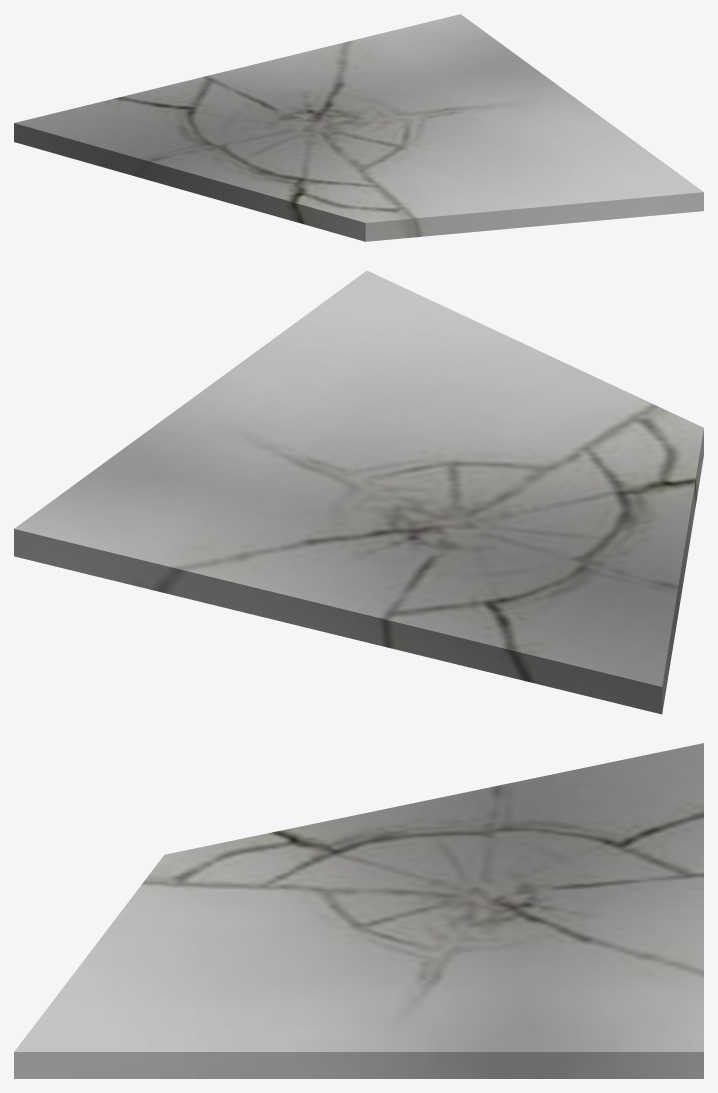
File: Building1_ShatterPanel8.fbx
3 renders of one model, top to bottom at view 1: azimuth 30°, elevation 25°; view 2: azimuth 150°, elevation 25°; view 3: azimuth 270°, elevation 25°, orthographic. The views are drawn at different scales.
Parts seen in each view (by area): view 1: Building1_ShatterPanel8; view 2: Building1_ShatterPanel8; view 3: Building1_ShatterPanel8.
Part boxes in pixels (<box>): Building1_ShatterPanel8: <box>14,14,703,241</box>; Building1_ShatterPanel8: <box>14,270,703,714</box>; Building1_ShatterPanel8: <box>14,743,703,1078</box>.
Bounding box in the file's own units: 76.9 × 3.12 × 72.55.
